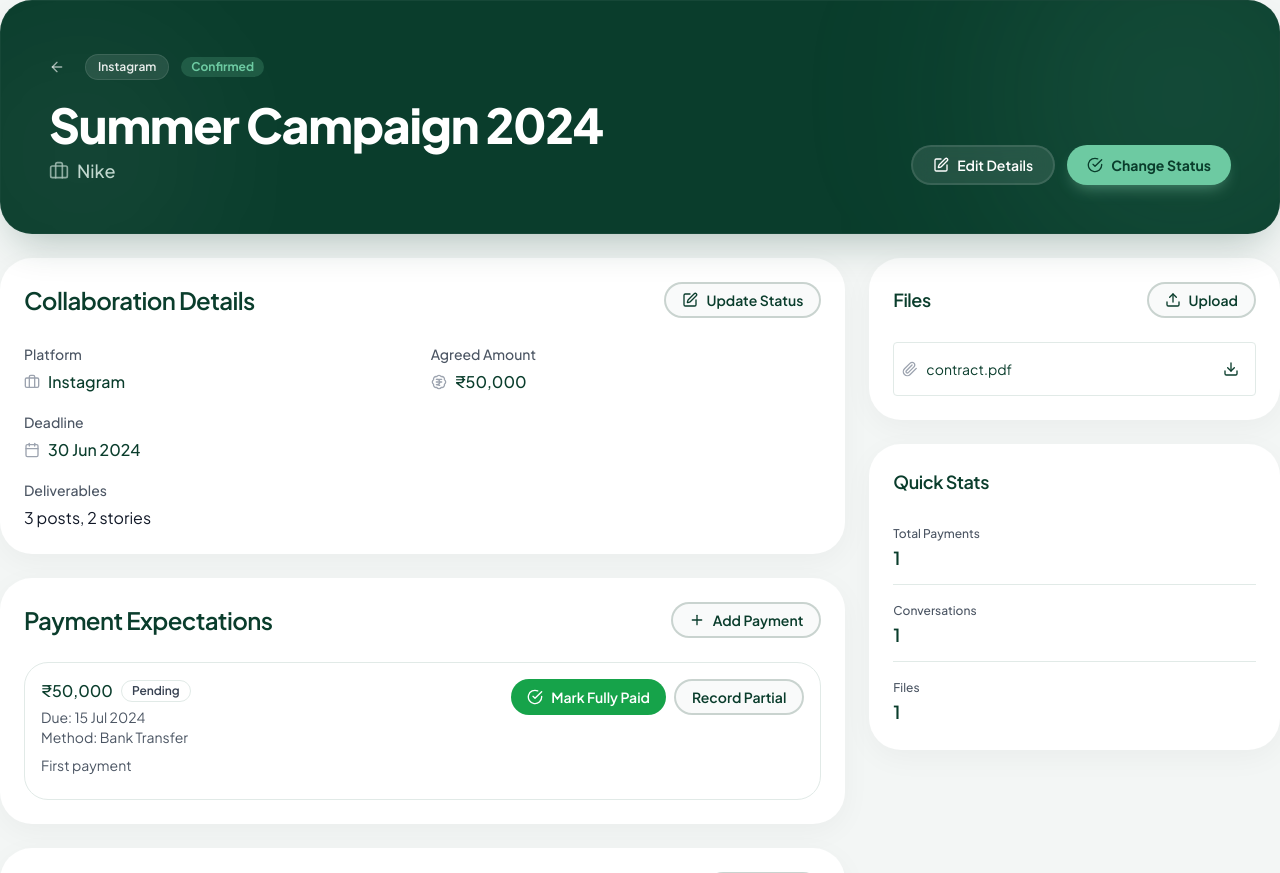
it: CollaborationDetailPage › Payment Management › should open payment expectation dialog
Expected: the heading "Summer Campaign 2024" is shown, x1=49 y1=101 x2=603 y2=149
Step 1. Click the button "Add Payment" → (746, 620), box x1=671 y1=602 x2=821 y2=638
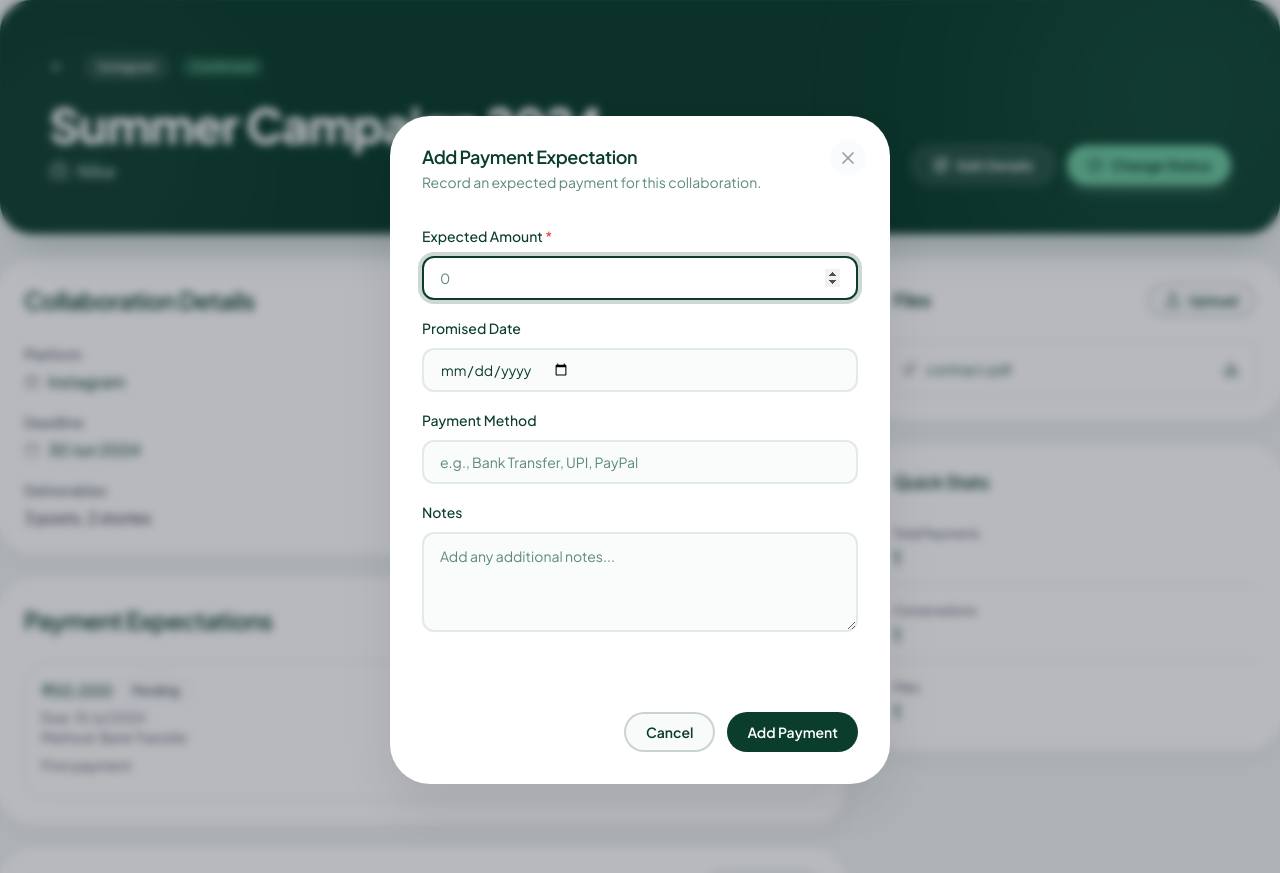
Now the dialog is shown, box x1=390 y1=116 x2=890 y2=784
Now the heading "Add Payment Expectation" is shown, box x1=422 y1=145 x2=637 y2=168
